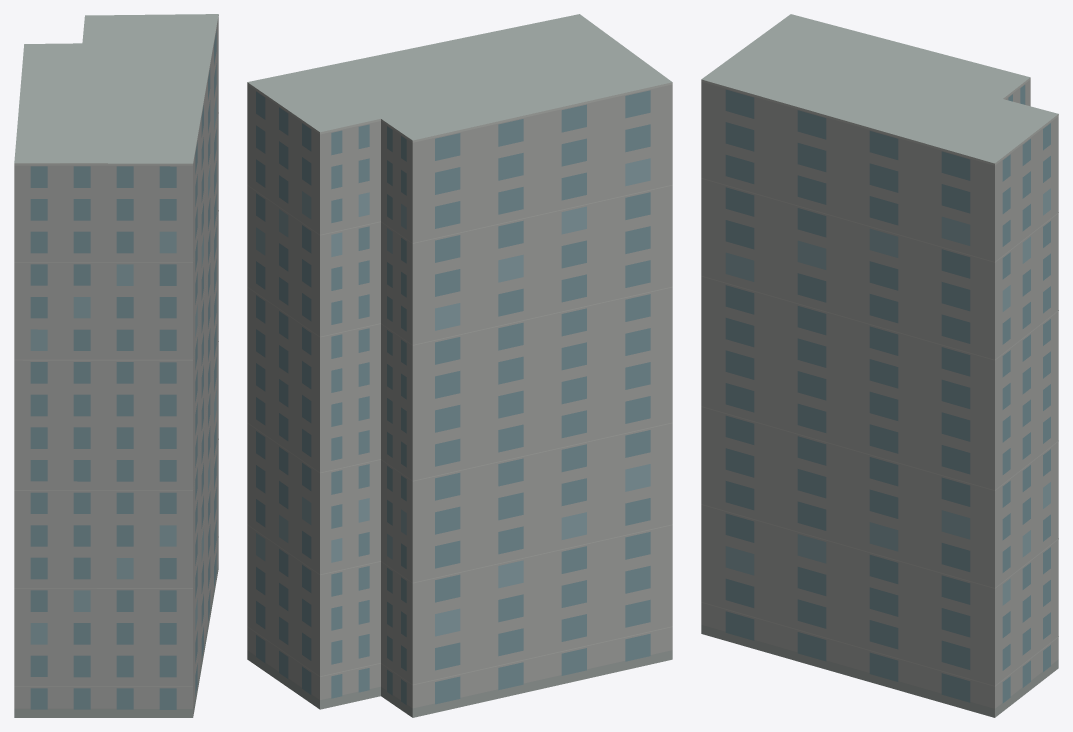
The model's file is residential-7ca8a22b-07c8-4415-9ebf-4ec5b8609154.glb.
3 views of the same model, side by side, from view 1: azimuth 30°, elevation 25°; view 2: azimuth 150°, elevation 25°; view 3: azimuth 270°, elevation 25° (orthographic). The views are drawn at different scales.
Parts seen in each view (by area): view 1: residential-7ca8a22b-07c8-4415-9ebf-4ec5b8609154.tmp; view 2: residential-7ca8a22b-07c8-4415-9ebf-4ec5b8609154.tmp; view 3: residential-7ca8a22b-07c8-4415-9ebf-4ec5b8609154.tmp.
Boxes of the visible parts, x1,y1,x2,y2 form: residential-7ca8a22b-07c8-4415-9ebf-4ec5b8609154.tmp: (14, 14, 218, 717); residential-7ca8a22b-07c8-4415-9ebf-4ec5b8609154.tmp: (247, 14, 672, 717); residential-7ca8a22b-07c8-4415-9ebf-4ec5b8609154.tmp: (701, 14, 1058, 717).
Bounding box in the file's own units: 36.46 × 63 × 36.84.
